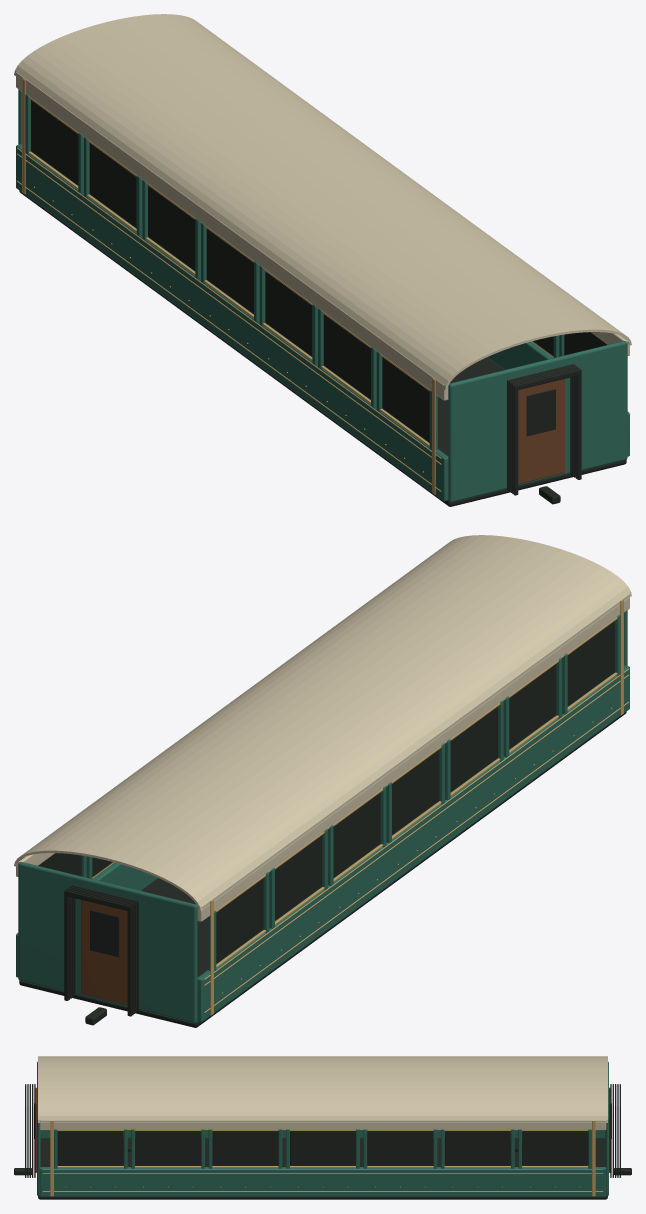
Rendered from PassengerCarExterior.fbx.
3 renders of one model, top to bottom at view 1: azimuth 30°, elevation 25°; view 2: azimuth 150°, elevation 25°; view 3: azimuth 270°, elevation 25°, orthographic. The views are drawn at different scales.
Visible parts, largest first — view 1: Car / roof, Car / enamel side, Car / end bulkhead, Car / upper side, Car / end door, Car / chassis, Car / recessed window, Car / recessed window.006, Car / recessed window.002, Car / recessed window.003, Car / recessed window.004, Car / recessed window.005 (+7 smaller); view 2: Car / roof, Car / enamel side, Car / end bulkhead.001, Car / upper side, Car / end door.001, Car / chassis, Car / recessed window.006, Car / recessed window, Car / recessed window.001, Car / recessed window.002, Car / recessed window.003, Car / recessed window.004 (+7 smaller); view 3: Car / roof, Car / enamel side.001, Car / upper side.001, Car / chassis, Car / recessed window.009, Car / recessed window.011, Car / recessed window.007, Car / recessed window.013, Car / recessed window.008, Car / recessed window.010, Car / recessed window.012, Car / gold pinstripe.003 (+7 smaller).
Boxes of the visible parts, box(x1,y1,x2,y2) form: Car / roof: box(14, 14, 631, 390); Car / enamel side: box(16, 144, 448, 501); Car / end bulkhead: box(448, 341, 627, 502); Car / upper side: box(16, 72, 448, 400); Car / end door: box(518, 379, 564, 484); Car / chassis: box(19, 190, 626, 506); Car / recessed window: box(382, 357, 429, 442); Car / recessed window.006: box(31, 100, 78, 185); Car / recessed window.002: box(265, 271, 312, 356); Car / recessed window.003: box(206, 229, 253, 313); Car / recessed window.004: box(148, 185, 195, 270); Car / recessed window.005: box(89, 143, 136, 228); Car / roof: box(14, 535, 631, 911); Car / enamel side: box(197, 665, 629, 1022); Car / end bulkhead.001: box(18, 862, 197, 1023); Car / upper side: box(197, 593, 629, 921); Car / end door.001: box(81, 900, 127, 1005); Car / chassis: box(19, 711, 626, 1027); Car / recessed window.006: box(216, 878, 263, 963); Car / recessed window: box(567, 621, 614, 706); Car / recessed window.001: box(509, 664, 556, 749); Car / recessed window.002: box(450, 706, 497, 791); Car / recessed window.003: box(392, 750, 439, 834); Car / recessed window.004: box(333, 792, 380, 877); Car / roof: box(38, 1056, 607, 1122); Car / enamel side.001: box(39, 1167, 606, 1196); Car / upper side.001: box(39, 1120, 606, 1130); Car / chassis: box(38, 1138, 607, 1199); Car / recessed window.009: box(212, 1131, 278, 1165); Car / recessed window.011: box(367, 1131, 433, 1165); Car / recessed window.007: box(57, 1131, 123, 1165); Car / recessed window.013: box(522, 1131, 588, 1165); Car / recessed window.008: box(135, 1131, 200, 1165); Car / recessed window.010: box(290, 1131, 355, 1165); Car / recessed window.012: box(445, 1131, 510, 1165); Car / gold pinstripe.003: box(42, 1191, 603, 1191).
Size of the model in its own units: 467 by 389 by 1996.
